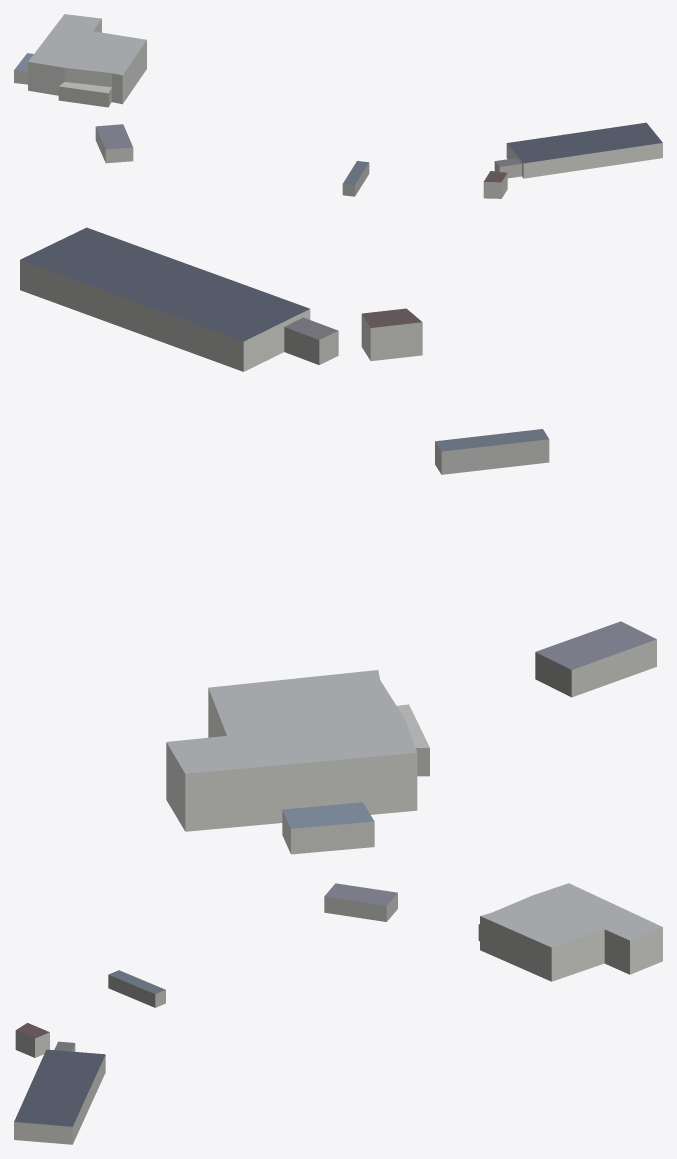
3 views of the same model, one above another, from view 1: azimuth 30°, elevation 25°; view 2: azimuth 150°, elevation 25°; view 3: azimuth 270°, elevation 25° (orthographic). The views are drawn at different scales.
Parts seen in each view (by area): view 1: tuile; view 2: tuile; view 3: tuile.
Part boxes in pixels (<box>): tuile: <box>14,14,662,198</box>; tuile: <box>20,227,656,854</box>; tuile: <box>14,883,662,1144</box>.
Size of the model in its own units: 178 by 13.85 by 197.
